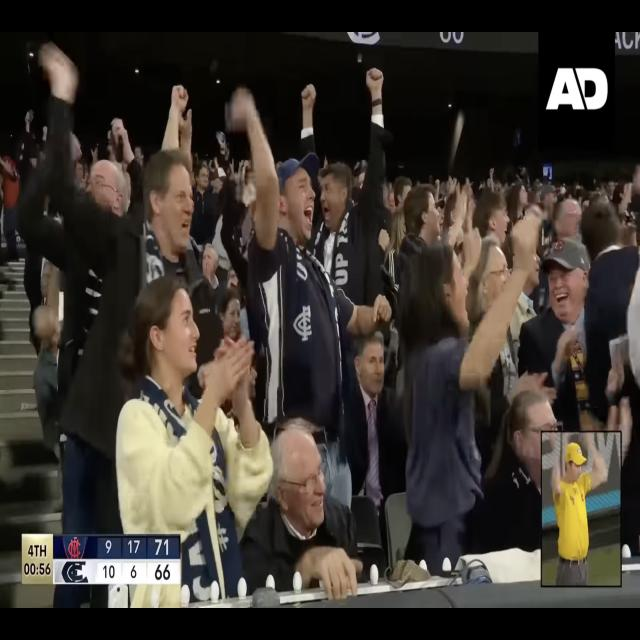crowd: (0, 41, 640, 584)
